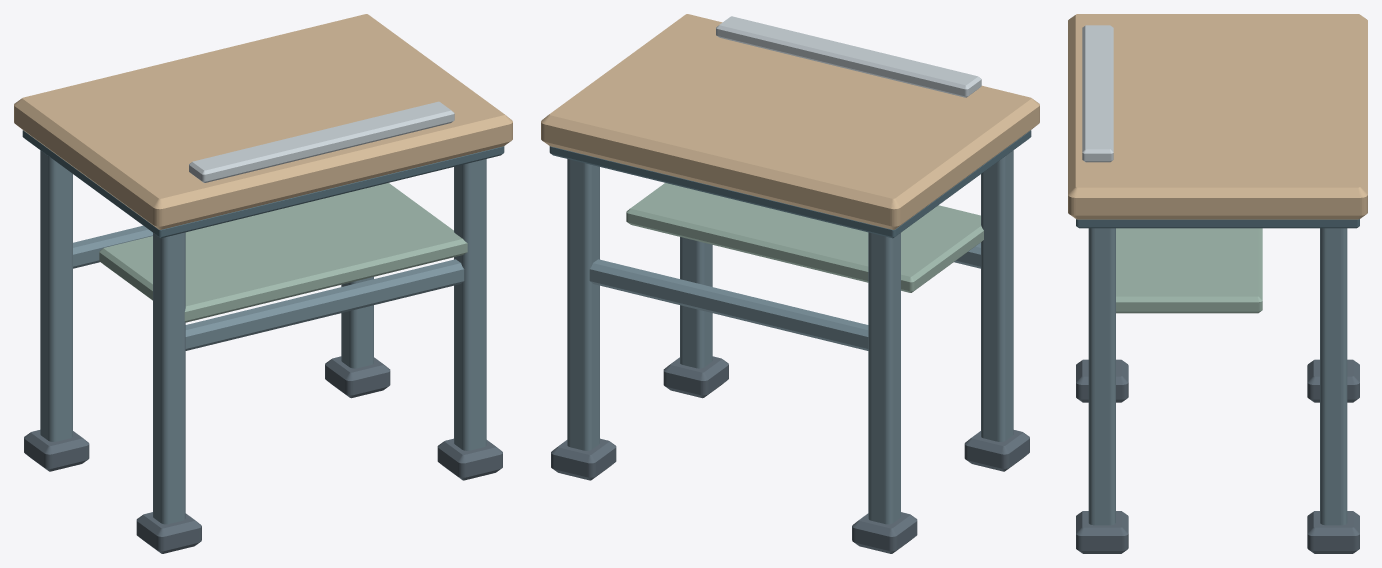
The model's file is classroom_desk.glb.
The picture shows the model from 3 angles, left to right: view 1: azimuth 30°, elevation 25°; view 2: azimuth 150°, elevation 25°; view 3: azimuth 270°, elevation 25°; orthographic projection. The views are drawn at different scales.
Parts seen in each view (by area): view 1: 000_worktop, 012_under_desk_book_shelf, 004_leg, 002_leg, 008_leg, 011_long_brace, 013_back_pencil_trough, 001_steel_rim, 006_leg, 005_rubber_foot, 009_rubber_foot, 003_rubber_foot (+2 smaller); view 2: 000_worktop, 012_under_desk_book_shelf, 002_leg, 006_leg, 004_leg, 010_long_brace, 013_back_pencil_trough, 001_steel_rim, 008_leg, 003_rubber_foot, 007_rubber_foot, 005_rubber_foot (+1 smaller); view 3: 000_worktop, 012_under_desk_book_shelf, 006_leg, 008_leg, 013_back_pencil_trough, 001_steel_rim, 007_rubber_foot, 009_rubber_foot, 003_rubber_foot, 005_rubber_foot.
Boxes of the visible parts, <box> form: 000_worktop: <box>14,14,512,229</box>; 012_under_desk_book_shelf: <box>99,183,467,322</box>; 004_leg: <box>153,232,185,524</box>; 002_leg: <box>40,150,72,441</box>; 008_leg: <box>454,159,486,450</box>; 011_long_brace: <box>185,259,464,350</box>; 013_back_pencil_trough: <box>189,101,454,182</box>; 001_steel_rim: <box>22,130,504,238</box>; 006_leg: <box>341,277,373,368</box>; 005_rubber_foot: <box>136,512,201,553</box>; 009_rubber_foot: <box>437,438,502,480</box>; 003_rubber_foot: <box>24,430,89,471</box>; 000_worktop: <box>541,14,1039,229</box>; 012_under_desk_book_shelf: <box>626,183,983,292</box>; 002_leg: <box>868,232,900,524</box>; 006_leg: <box>567,159,599,450</box>; 004_leg: <box>981,150,1013,441</box>; 010_long_brace: <box>589,259,868,350</box>; 013_back_pencil_trough: <box>716,16,981,97</box>; 001_steel_rim: <box>549,130,1031,238</box>; 008_leg: <box>680,237,712,368</box>; 003_rubber_foot: <box>852,512,917,553</box>; 007_rubber_foot: <box>551,438,616,480</box>; 005_rubber_foot: <box>964,430,1029,471</box>; 000_worktop: <box>1068,14,1367,219</box>; 012_under_desk_book_shelf: <box>1116,228,1262,313</box>; 006_leg: <box>1320,228,1347,525</box>; 008_leg: <box>1088,228,1115,525</box>; 013_back_pencil_trough: <box>1082,25,1113,162</box>; 001_steel_rim: <box>1076,219,1359,228</box>; 007_rubber_foot: <box>1307,511,1359,553</box>; 009_rubber_foot: <box>1076,511,1128,553</box>; 003_rubber_foot: <box>1307,359,1359,402</box>; 005_rubber_foot: <box>1076,359,1128,402</box>.
Size of the model in its own units: 0.81 by 0.802 by 0.57.
